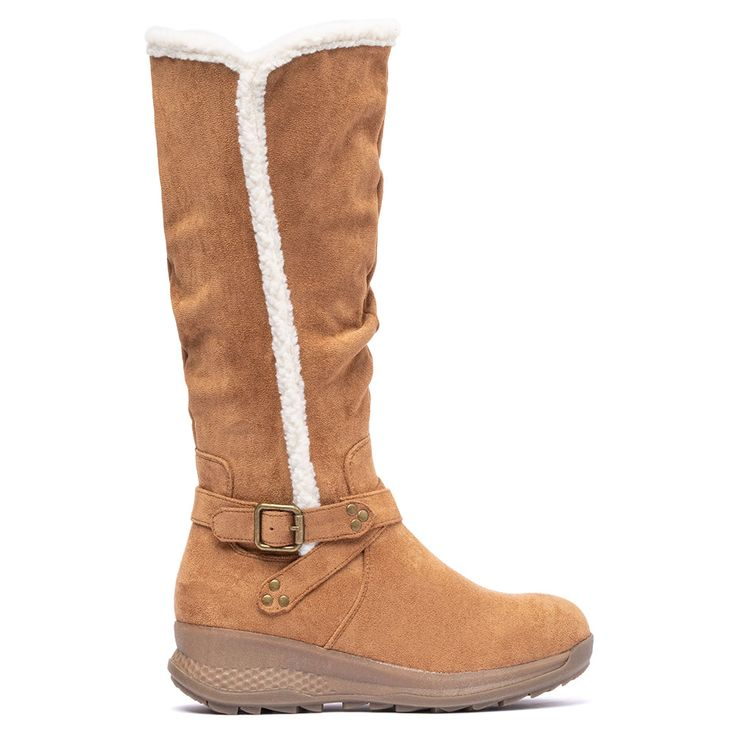gamuza: (145, 19, 590, 673)
